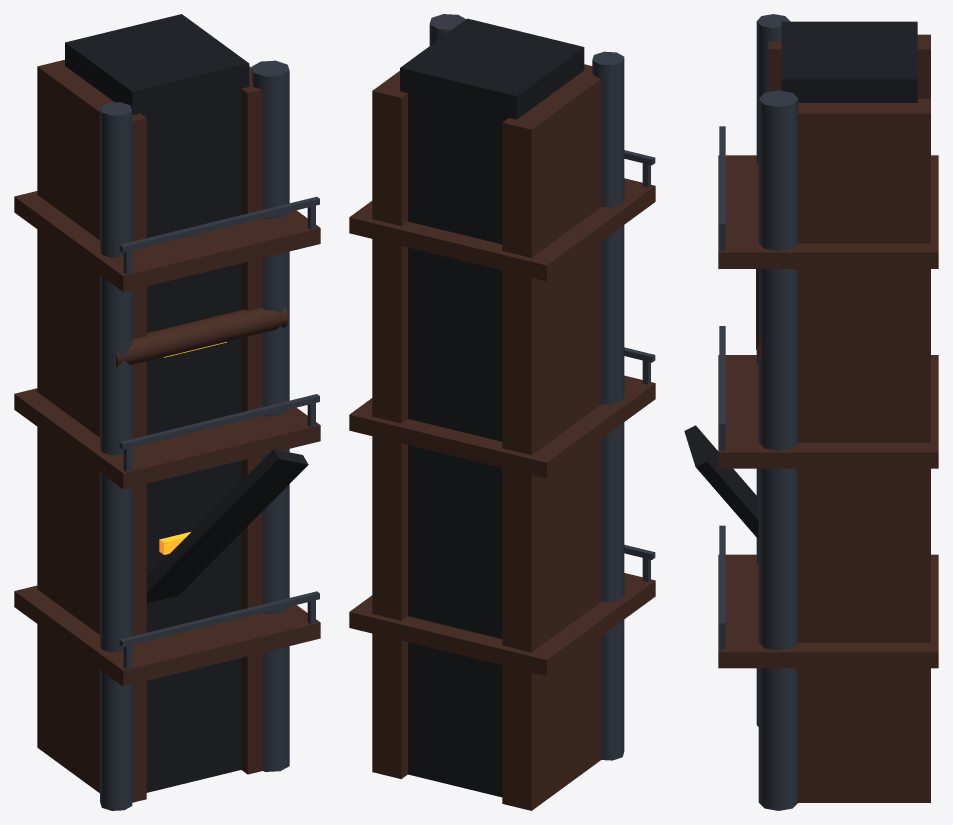
File: prop_mega_tower.glb
The picture shows the model from 3 angles, left to right: view 1: azimuth 30°, elevation 25°; view 2: azimuth 150°, elevation 25°; view 3: azimuth 270°, elevation 25°; orthographic projection.
Parts seen in each view (by area): view 1: core_pillar, flank_rib_l, pipe_v_l, pipe_v_r, catwalk_deck_3.2, catwalk_deck_11.6, catwalk_deck_7.4, flank_rib_r, stair_stringer, pipe_cross, rail_front_7.4, rail_front_11.6 (+1 smaller); view 2: core_pillar, flank_rib_l, flank_rib_r, pipe_v_l, catwalk_deck_3.2, catwalk_deck_7.4, catwalk_deck_11.6, pipe_v_r; view 3: flank_rib_r, pipe_v_r, core_pillar, catwalk_deck_3.2, catwalk_deck_7.4, catwalk_deck_11.6, stair_stringer, pipe_v_l, flank_rib_l, rail_front_3.2, rail_front_7.4, rail_front_11.6.
Boxes of the visible parts, x1,y1,x2,y2 form: core_pillar: [65, 14, 249, 792]; flank_rib_l: [37, 59, 146, 802]; pipe_v_l: [100, 102, 132, 810]; pipe_v_r: [251, 60, 289, 771]; catwalk_deck_3.2: [14, 585, 320, 686]; catwalk_deck_11.6: [14, 191, 320, 291]; catwalk_deck_7.4: [14, 388, 320, 489]; flank_rib_r: [241, 66, 262, 774]; stair_stringer: [146, 449, 308, 603]; pipe_cross: [116, 307, 288, 367]; rail_front_7.4: [119, 394, 319, 449]; rail_front_11.6: [119, 196, 319, 252]; core_pillar: [400, 18, 584, 797]; flank_rib_l: [502, 64, 601, 810]; flank_rib_r: [372, 71, 407, 778]; pipe_v_l: [592, 51, 624, 760]; catwalk_deck_3.2: [349, 573, 655, 675]; catwalk_deck_7.4: [349, 375, 655, 478]; catwalk_deck_11.6: [349, 178, 655, 281]; pipe_v_r: [429, 14, 465, 45]; flank_rib_r: [798, 99, 930, 802]; pipe_v_r: [758, 90, 798, 810]; core_pillar: [781, 21, 917, 102]; catwalk_deck_3.2: [718, 554, 938, 668]; catwalk_deck_7.4: [718, 355, 938, 468]; catwalk_deck_11.6: [718, 155, 938, 268]; stair_stringer: [684, 425, 758, 539]; pipe_v_l: [756, 14, 790, 726]; flank_rib_l: [768, 34, 930, 98]; rail_front_3.2: [719, 525, 725, 628]; rail_front_7.4: [719, 326, 725, 429]; rail_front_11.6: [719, 126, 725, 229].
Bounding box in the file's own units: 4.4 × 15 × 4.85.
